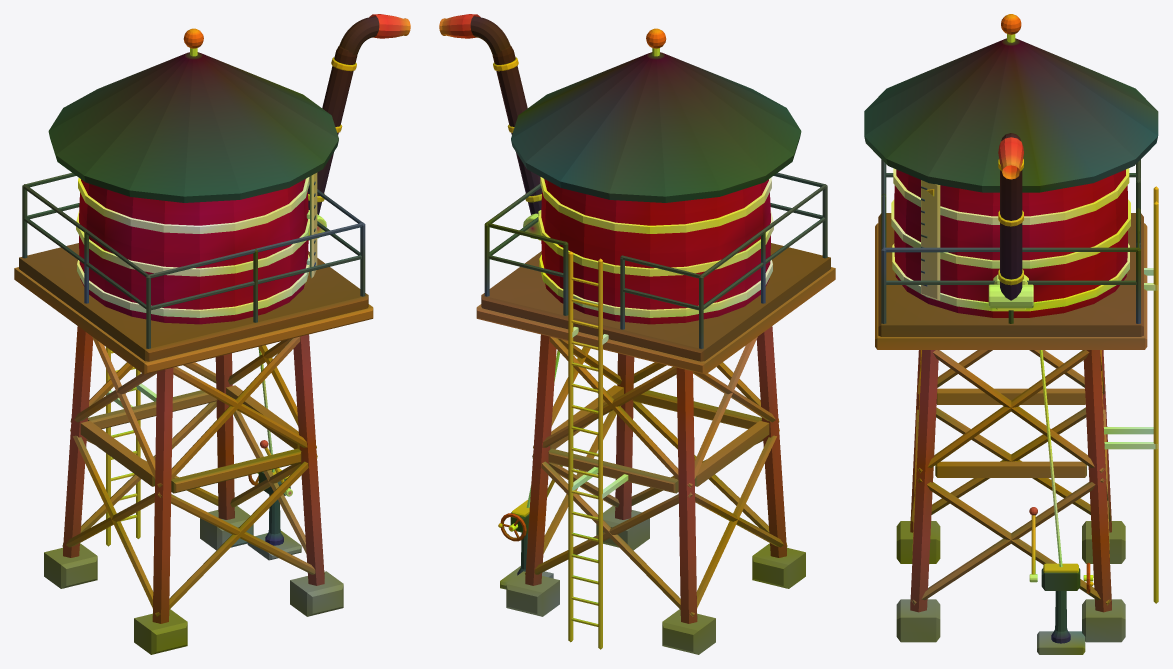
File: Yard_WaterTower.fbx
3 renders of one model, left to right at view 1: azimuth 30°, elevation 25°; view 2: azimuth 150°, elevation 25°; view 3: azimuth 270°, elevation 25°, orthographic. The views are drawn at different scales.
Visible parts, largest first — view 1: Tower, Move_Spout; view 2: Tower, Move_Spout; view 3: Tower, Move_Spout, Move_Lever_Spout.
Boxes of the visible parts, bbox=[...] form: Tower: bbox=[14, 28, 373, 654]; Move_Spout: bbox=[307, 14, 410, 238]; Tower: bbox=[476, 28, 835, 654]; Move_Spout: bbox=[439, 14, 542, 238]; Tower: bbox=[864, 14, 1158, 654]; Move_Spout: bbox=[988, 133, 1033, 308]; Move_Lever_Spout: bbox=[1029, 507, 1037, 582].
Bounding box in the file's own units: 4.98 × 7.96 × 3.66.
